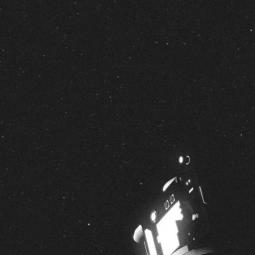proba_3_csc: (119, 149, 244, 255)
